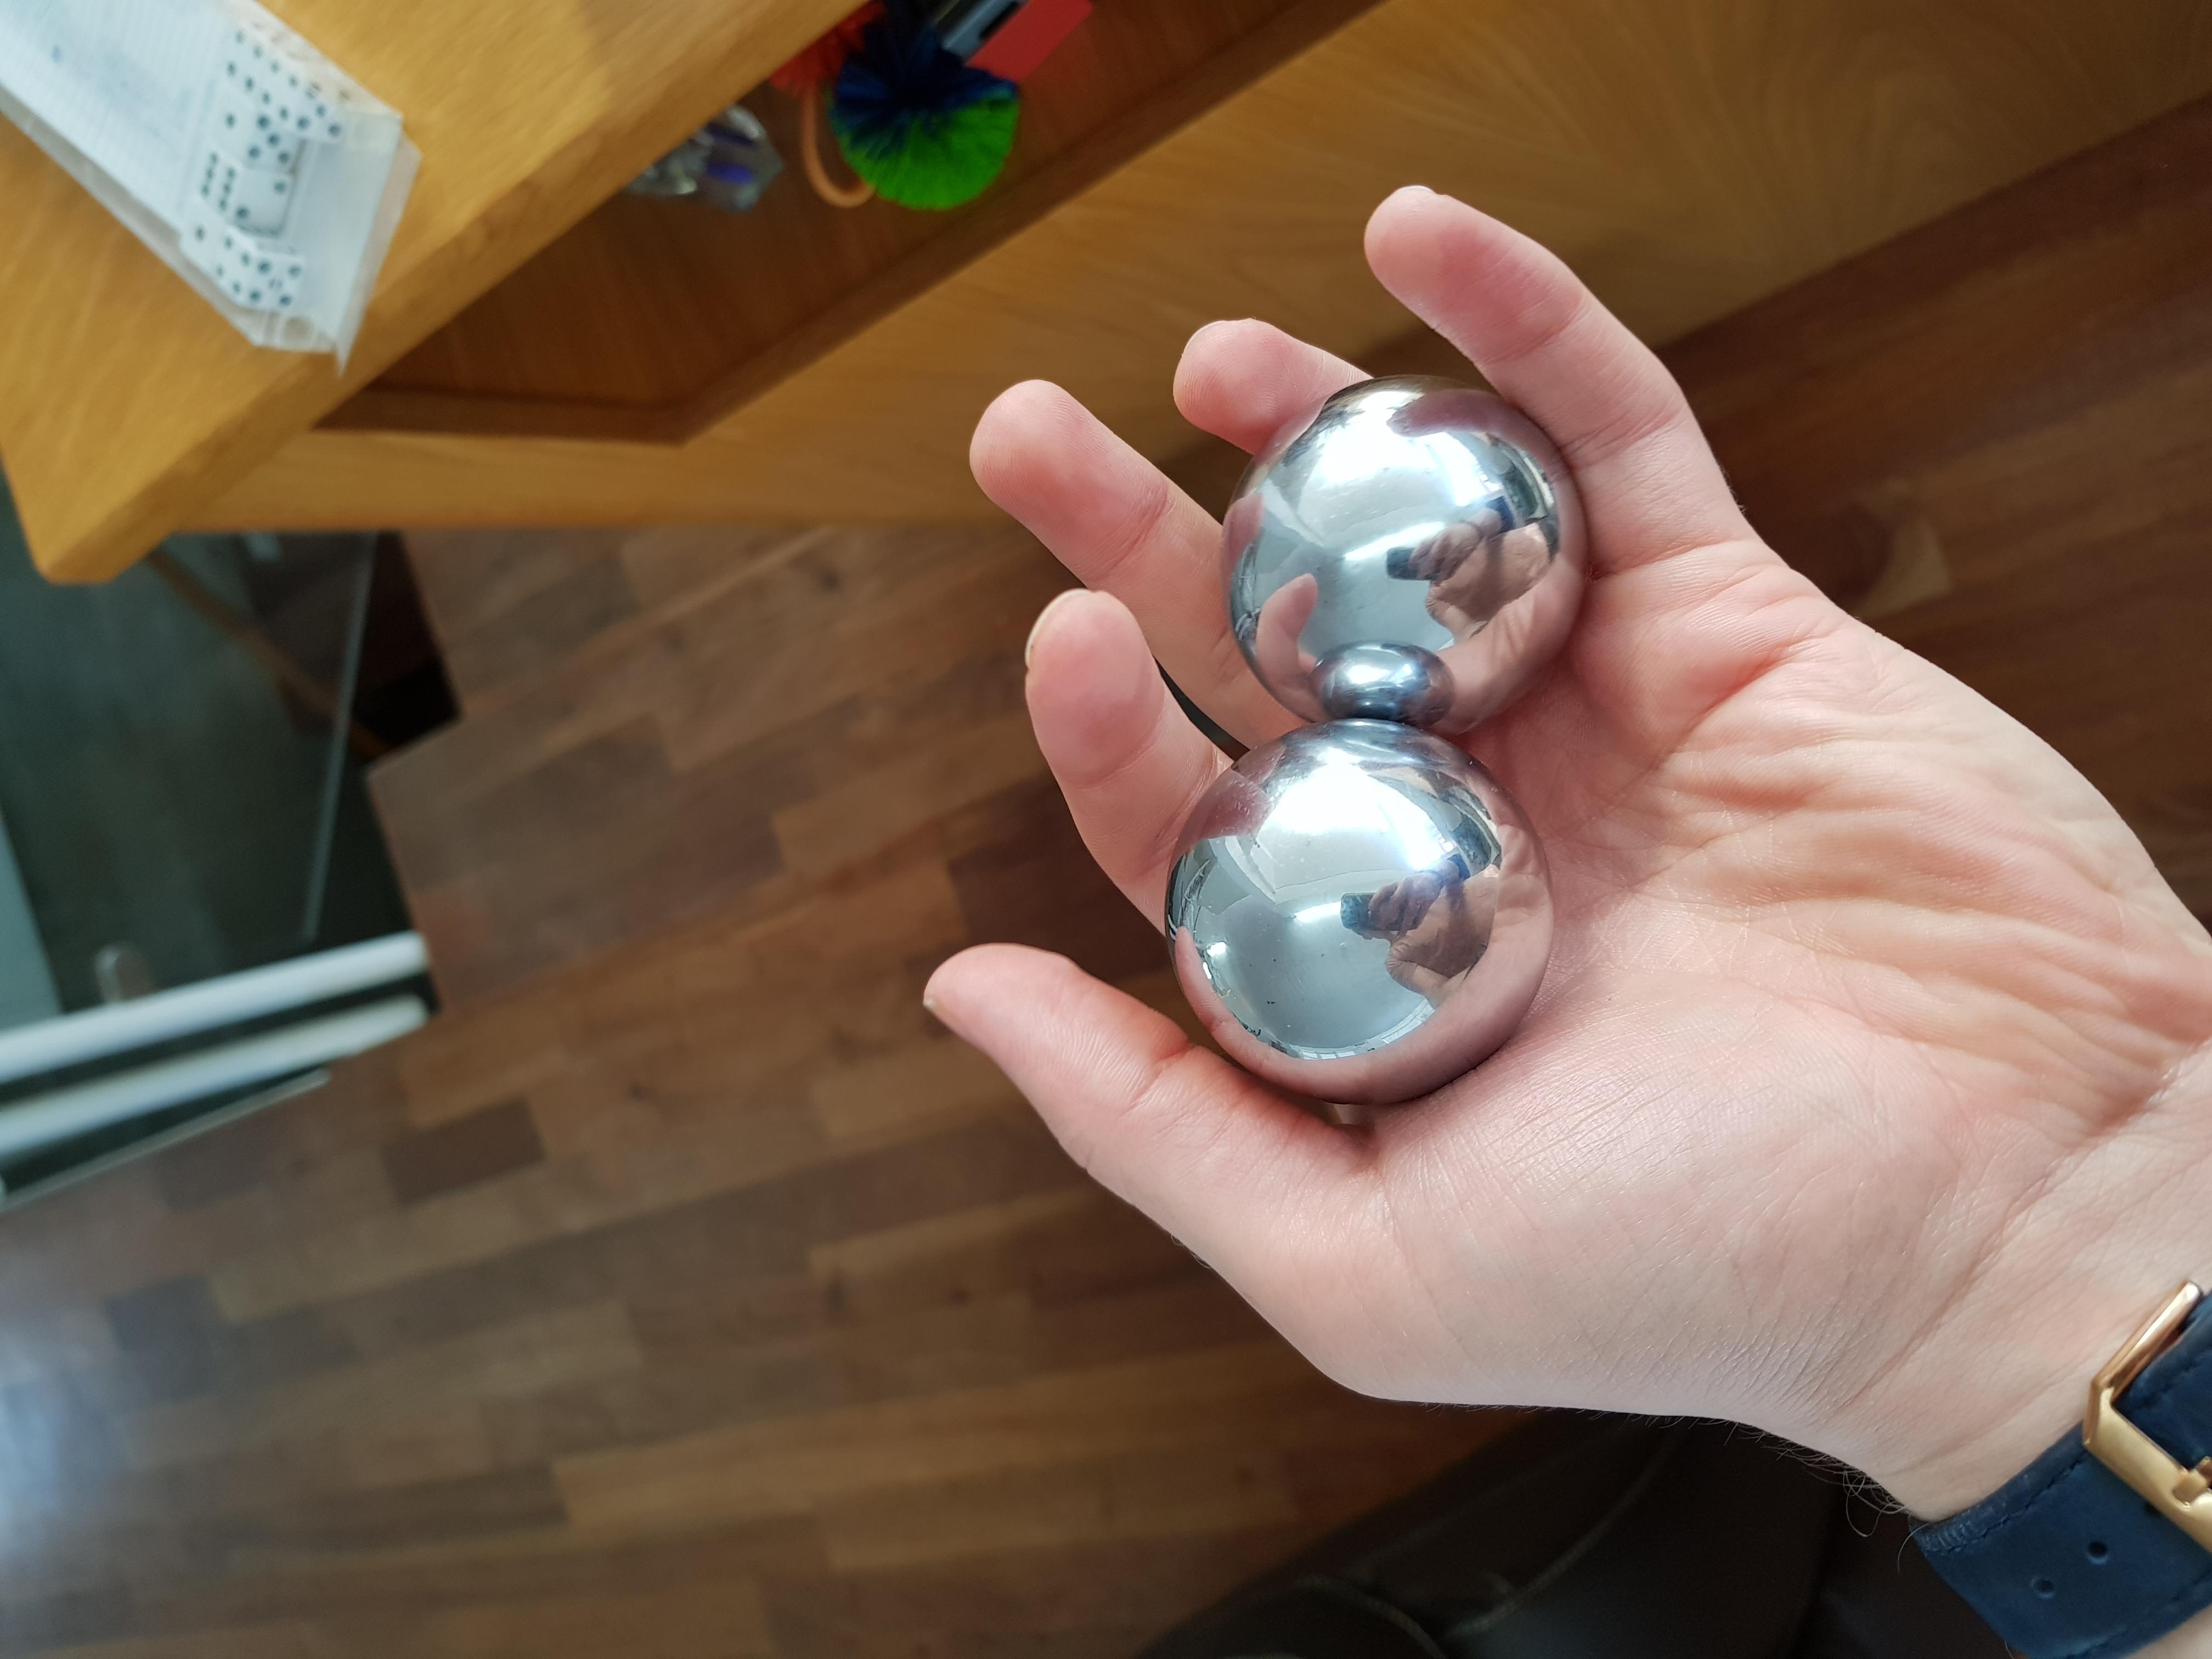sphere: (1143, 713, 1564, 1093), (1233, 371, 1564, 723)
